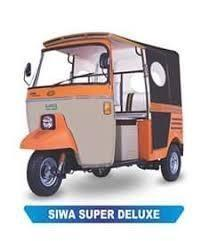keke: (4, 31, 184, 199), (18, 32, 186, 196)
